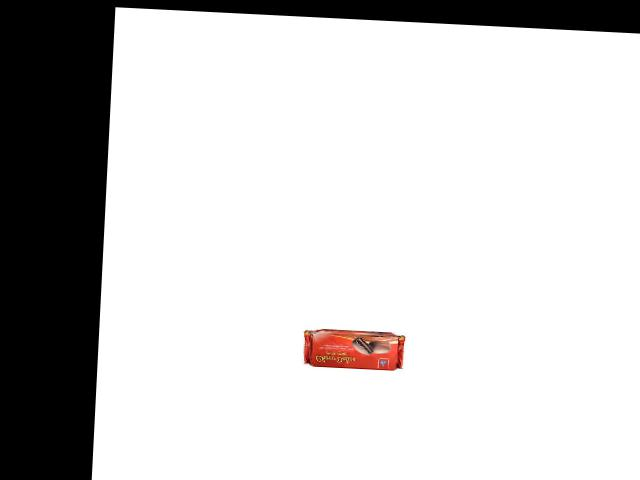chocolate: (301, 318, 407, 371)
